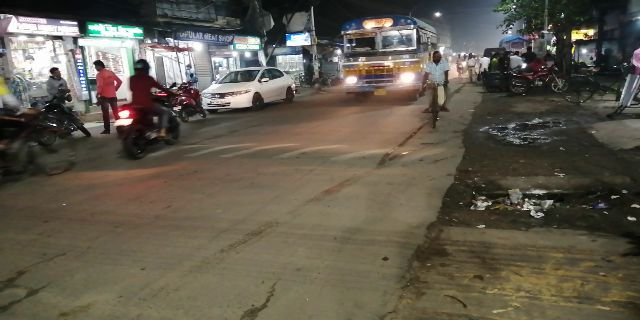Bus: (338, 15, 426, 102)
Car: (204, 64, 299, 113)
Cycle: (422, 45, 452, 132)
Motorbike: (107, 58, 183, 163), (165, 73, 206, 125)
